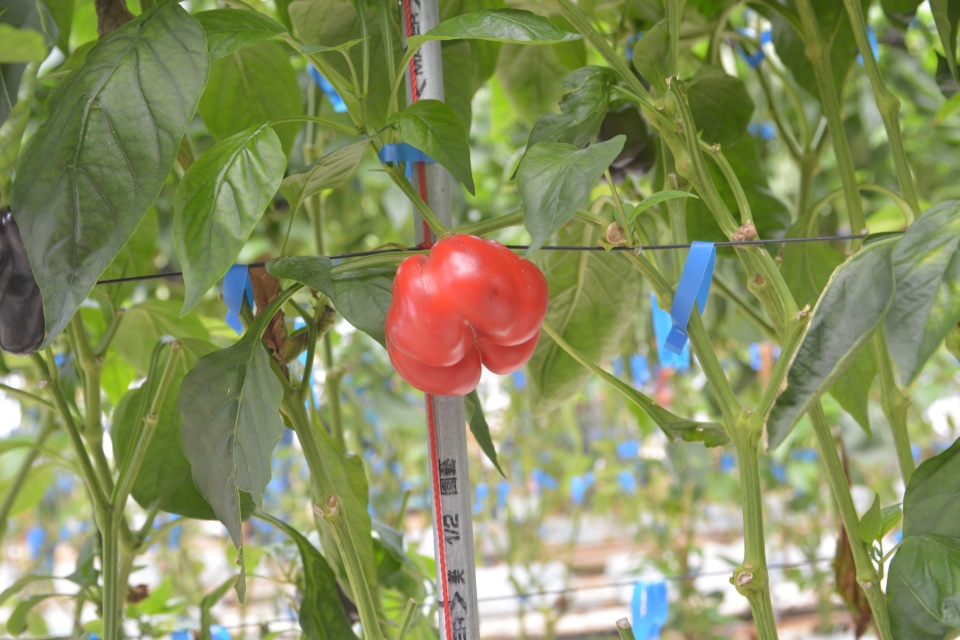fruit: (381, 229, 551, 399), (0, 204, 45, 359), (583, 99, 659, 188)
